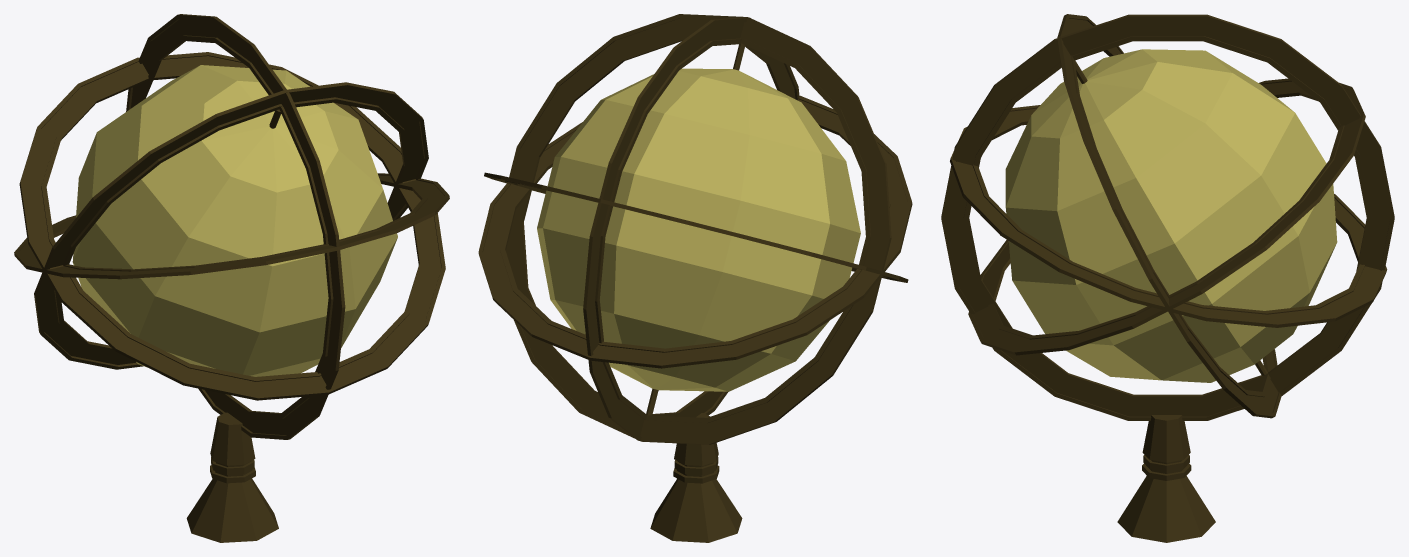
File: globe.fbx
3 views of the same model, side by side, from view 1: azimuth 30°, elevation 25°; view 2: azimuth 150°, elevation 25°; view 3: azimuth 270°, elevation 25° (orthographic). The views are drawn at different scales.
Visible parts, largest first — view 1: Sphere; view 2: Sphere; view 3: Sphere.
Part boxes in pixels (x1,y1,x2,y2): Sphere: [14, 14, 449, 542]; Sphere: [478, 14, 912, 542]; Sphere: [941, 14, 1394, 542].
Bounding box in the file's own units: 99.03 × 124 × 101.
